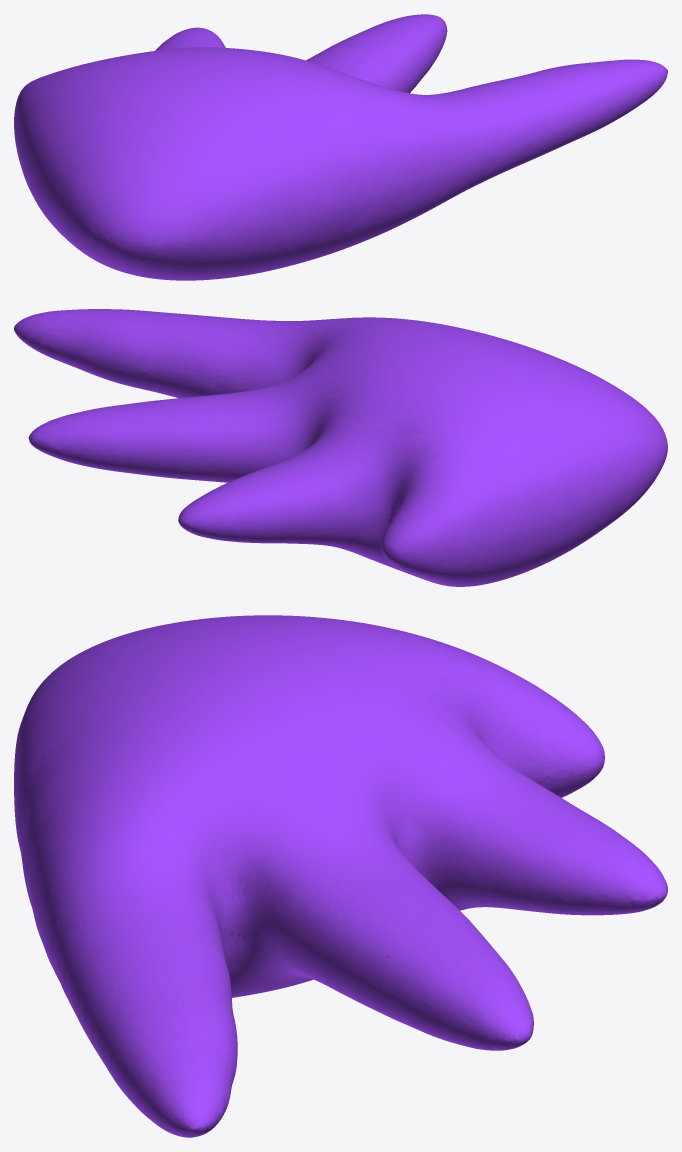
The model's file is serafin-3d.glb.
The picture shows the model from 3 angles, top to bottom: view 1: azimuth 30°, elevation 25°; view 2: azimuth 150°, elevation 25°; view 3: azimuth 270°, elevation 25°; orthographic projection. The views are drawn at different scales.
Visible parts, largest first — view 1: Serafin; view 2: Serafin; view 3: Serafin.
Boxes of the visible parts, x1,y1,x2,y2 form: Serafin: (14, 14, 667, 280); Serafin: (14, 309, 667, 586); Serafin: (14, 615, 667, 1137).
Bounding box in the file's own units: 1.97 × 0.5962 × 1.21.
